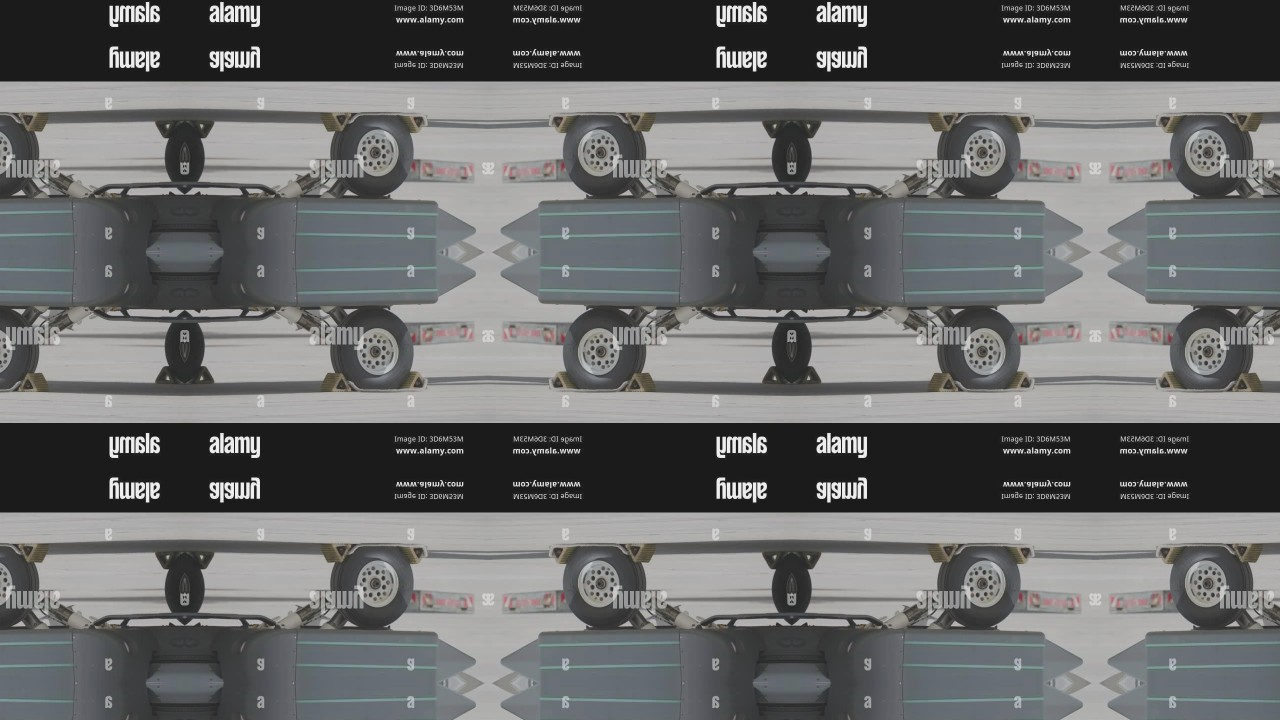chock: (397, 113, 428, 133), (548, 113, 579, 133), (1005, 113, 1036, 133), (1156, 113, 1187, 133), (397, 371, 428, 391), (548, 371, 579, 391), (1005, 371, 1036, 391), (1156, 371, 1187, 391), (397, 545, 428, 565), (548, 545, 579, 565), (1005, 545, 1036, 565), (1156, 545, 1187, 565), (17, 112, 48, 131), (320, 112, 351, 131), (625, 112, 656, 131), (928, 112, 959, 131), (1233, 112, 1264, 131), (17, 373, 48, 392), (320, 373, 351, 392), (625, 373, 656, 392), (928, 373, 959, 392), (1233, 373, 1264, 392), (17, 544, 48, 563), (320, 544, 351, 563), (625, 544, 656, 563), (928, 544, 959, 563), (1233, 544, 1264, 563), (154, 120, 182, 138), (186, 120, 214, 138), (762, 120, 790, 138), (794, 120, 822, 138), (154, 366, 182, 384), (186, 366, 214, 384), (762, 366, 790, 384), (794, 366, 822, 384), (154, 552, 182, 570), (186, 552, 214, 570), (762, 552, 790, 570), (794, 552, 822, 570)
wheel: (330, 116, 412, 197), (564, 116, 646, 197), (938, 116, 1020, 197), (1172, 116, 1254, 197), (330, 307, 412, 388), (564, 307, 646, 388), (938, 307, 1020, 388), (1172, 307, 1254, 388), (330, 548, 412, 629), (564, 548, 646, 629), (938, 548, 1020, 629), (1172, 548, 1254, 629), (0, 116, 38, 197), (0, 307, 38, 388), (0, 548, 38, 629), (163, 122, 184, 184), (184, 122, 205, 184), (771, 122, 792, 184), (792, 122, 813, 184), (163, 320, 184, 382), (184, 320, 205, 382), (771, 320, 792, 382), (792, 320, 813, 382), (163, 554, 184, 616), (184, 554, 205, 616), (771, 554, 792, 616), (792, 554, 813, 616)
